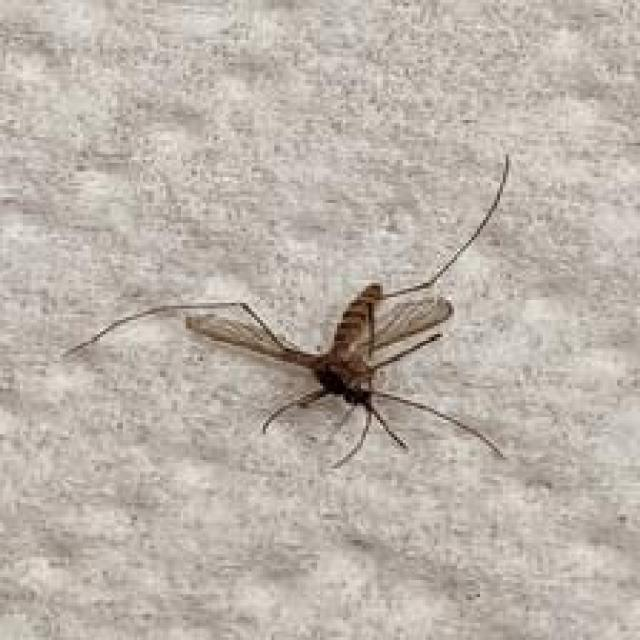Culex: (61, 152, 513, 472)
